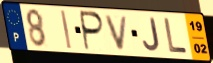8: (25, 8, 48, 49)
I: (59, 10, 74, 51)
J: (142, 17, 162, 53)
L: (163, 17, 189, 56)
P: (80, 10, 106, 53)
V: (104, 14, 130, 52)
